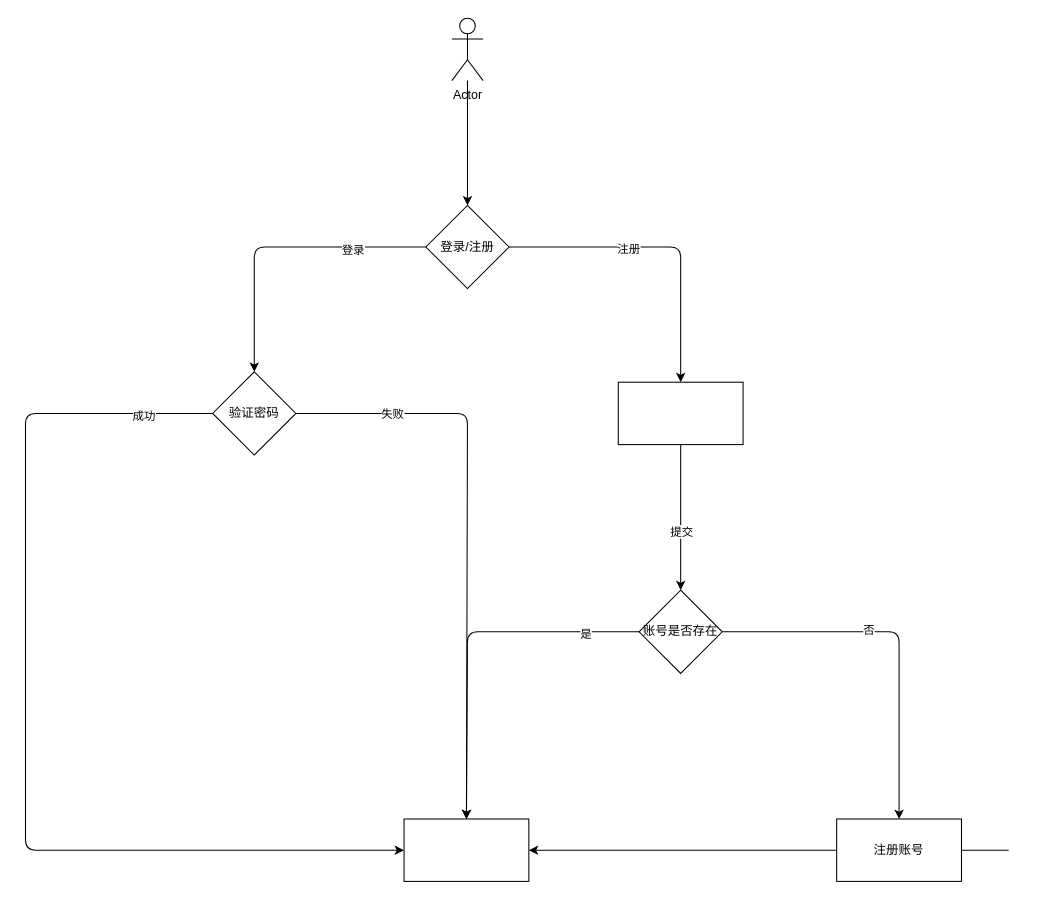
This 1040x900 diagram has some shape labels left out. The centre of each missing label's shape, as x and y in pixels:
"加密密码" goes at (680,413).
"结束" goes at (466,849).
